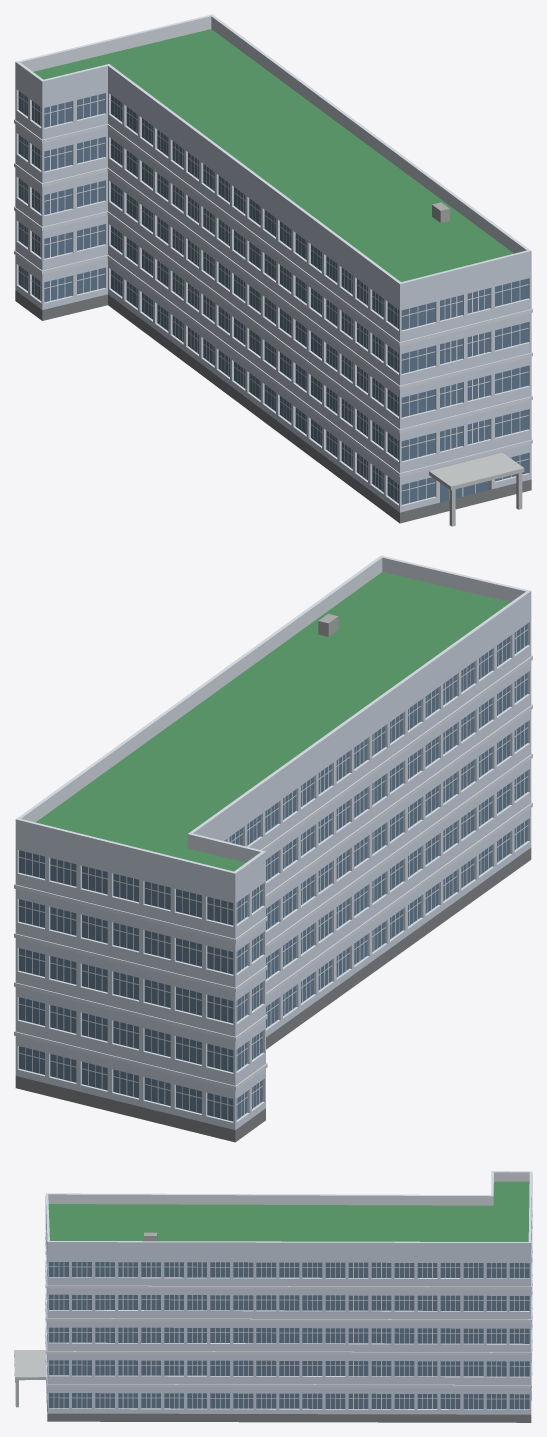
3 renders of one model, top to bottom at view 1: azimuth 30°, elevation 25°; view 2: azimuth 150°, elevation 25°; view 3: azimuth 270°, elevation 25°, orthographic. The views are drawn at different scales.
Visible parts, largest first — view 1: wing4__wall-plaster, wing4__glass, wing4__roof, wing4__trim-concrete, wing4__frame, wing4__base-stone, wing4__canopy-concrete; view 2: wing4__wall-plaster, wing4__glass, wing4__roof, wing4__trim-concrete, wing4__frame, wing4__base-stone; view 3: wing4__wall-plaster, wing4__glass, wing4__roof, wing4__trim-concrete, wing4__frame, wing4__base-stone, wing4__canopy-concrete.
Boxes of the visible parts, x1,y1,x2,y2 form: wing4__wall-plaster: (15, 62, 531, 512); wing4__glass: (18, 91, 528, 504); wing4__roof: (33, 29, 513, 281); wing4__trim-concrete: (14, 14, 532, 505); wing4__frame: (18, 93, 528, 503); wing4__base-stone: (15, 290, 531, 523); wing4__canopy-concrete: (429, 452, 524, 526); wing4__wall-plaster: (15, 591, 531, 1130); wing4__glass: (19, 623, 527, 1121); wing4__roof: (36, 572, 510, 871); wing4__trim-concrete: (14, 555, 532, 1122); wing4__frame: (19, 626, 528, 1120); wing4__base-stone: (15, 848, 531, 1142); wing4__wall-plaster: (45, 1173, 532, 1414); wing4__glass: (49, 1262, 529, 1409); wing4__roof: (48, 1181, 529, 1241); wing4__trim-concrete: (45, 1171, 532, 1409); wing4__frame: (49, 1262, 529, 1409); wing4__base-stone: (46, 1380, 531, 1422); wing4__canopy-concrete: (14, 1350, 46, 1407).
Bounding box in the file's own units: 17.14 × 19.75 × 51.69.
